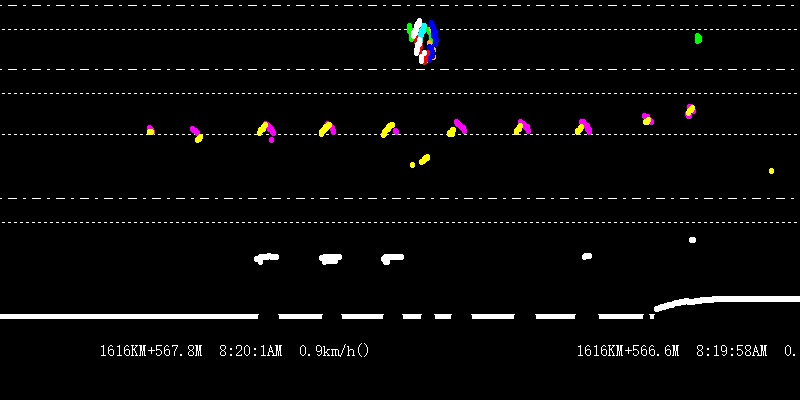J: (400, 3, 444, 66)
face_1: (690, 22, 710, 50)
